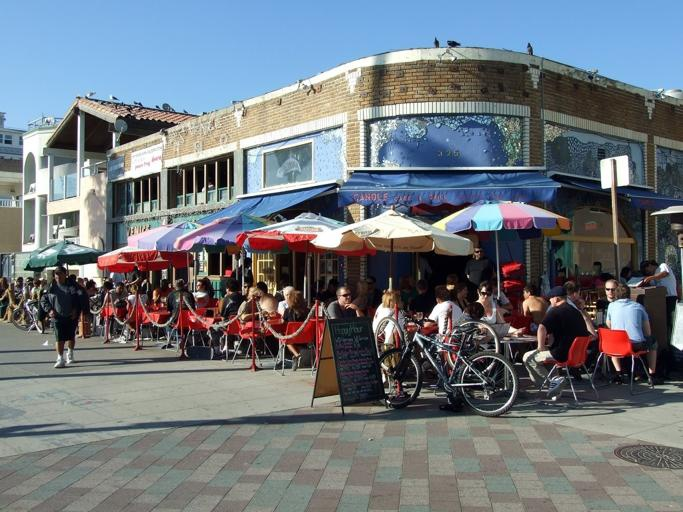non-vehicle: (377, 304, 519, 417), (373, 316, 500, 397), (10, 280, 43, 334)
